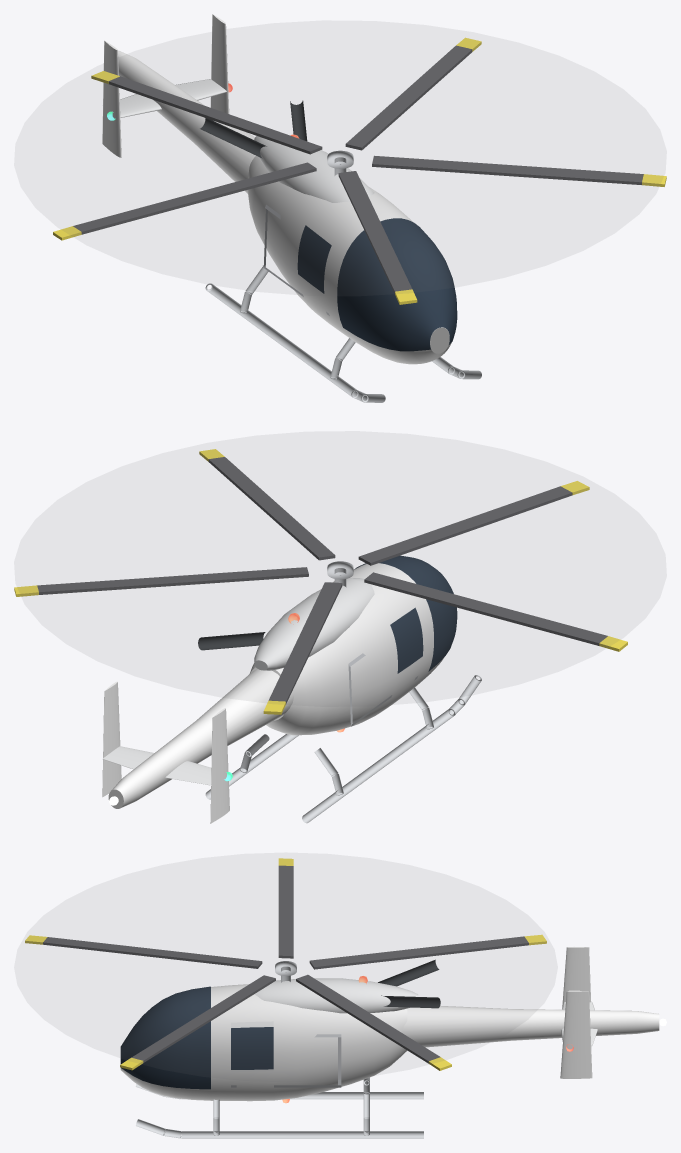
The picture shows the model from 3 angles, top to bottom: view 1: azimuth 30°, elevation 25°; view 2: azimuth 150°, elevation 25°; view 3: azimuth 270°, elevation 25°; orthographic projection. The views are drawn at different scales.
Parts seen in each view (by area): view 1: airframe, rotor; view 2: airframe, rotor; view 3: airframe, rotor.
Part boxes in pixels (bbox=[...]): airframe: bbox=[102, 14, 481, 402]; rotor: bbox=[53, 37, 666, 304]; airframe: bbox=[102, 555, 481, 823]; rotor: bbox=[14, 449, 627, 714]; airframe: bbox=[120, 946, 666, 1138]; rotor: bbox=[25, 858, 546, 1070].
Size of the model in its own units: 8.4 by 2.66 by 10.08.
